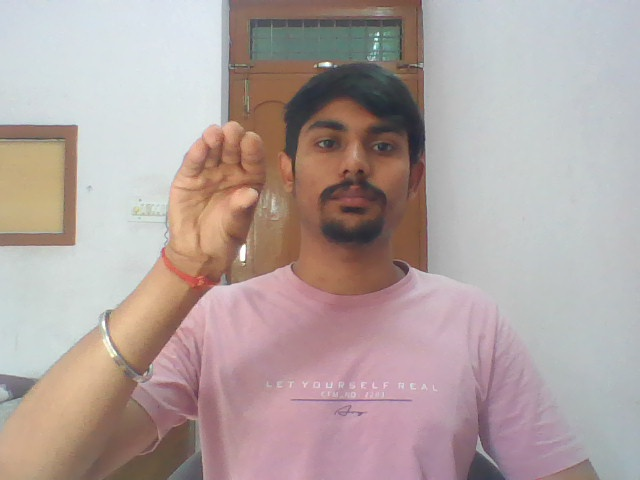No: (163, 120, 272, 253)
